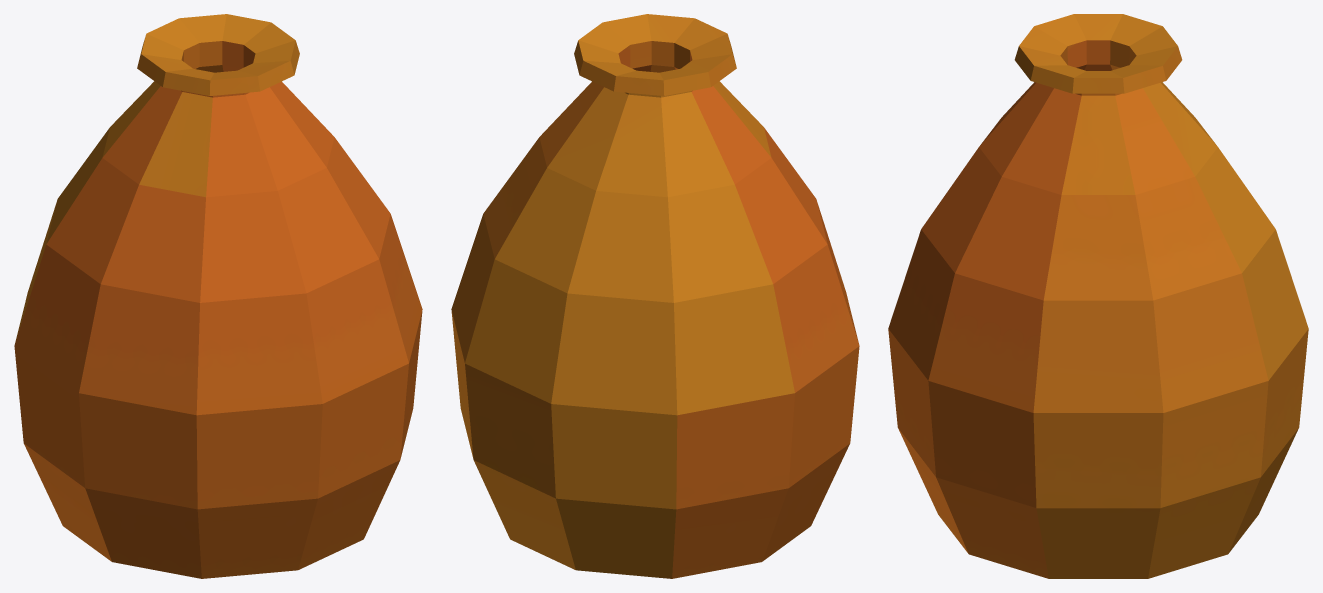
File: pot.gltf
The picture shows the model from 3 angles, left to right: view 1: azimuth 30°, elevation 25°; view 2: azimuth 150°, elevation 25°; view 3: azimuth 270°, elevation 25°; orthographic projection.
Visible parts, largest first — view 1: Circle; view 2: Circle; view 3: Circle.
Part boxes in pixels (<box>): Circle: <box>14,14,422,578</box>; Circle: <box>451,14,859,578</box>; Circle: <box>888,14,1308,578</box>.
Size of the model in its own units: 1.49 by 1.93 by 1.57.
1 material, 1 textured.
